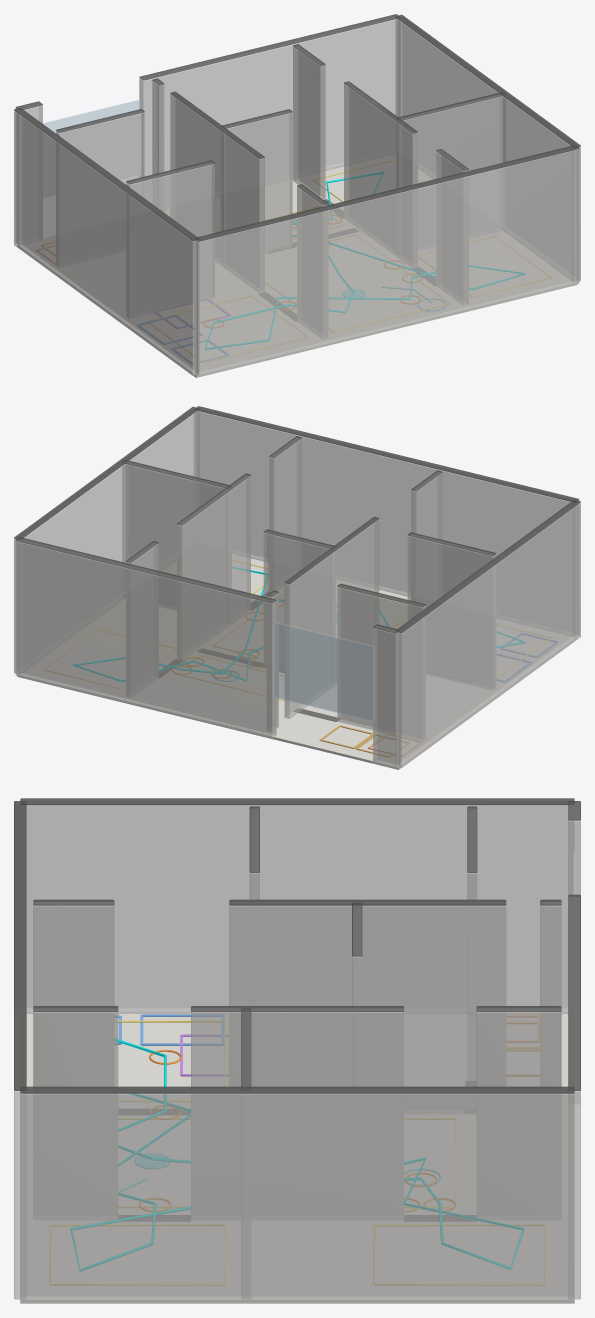
The model's file is simple_apartment_walls_optimized.glb.
3 views of the same model, one above another, from view 1: azimuth 30°, elevation 25°; view 2: azimuth 150°, elevation 25°; view 3: azimuth 270°, elevation 25° (orthographic). The views are drawn at different scales.
Parts seen in each view (by area): view 1: APT_Wall_Outer_South, APT_Floor_Main, APT_Wall_Outer_North_Segment_East, APT_Wall_Outer_West, APT_Wall_Outer_East, APT_Wall_LeftBlock_Partition_Mid, APT_Wall_Kitchen_North_Partition, APT_Wall_Balcony_South_Partition, APT_Wall_Bedroom_Divider, APT_Wall_RightBlock_Partition_Middle, APT_Wall_Corridor_Living_Partition_Short, APT_Window_Balcony_North_Glass (+13 smaller); view 2: APT_Wall_Outer_South, APT_Wall_Outer_North_Segment_East, APT_Floor_Main, APT_Wall_Outer_West, APT_Wall_Outer_East, APT_Wall_LeftBlock_Partition_Mid, APT_Wall_Bedroom_Divider, APT_Wall_Balcony_South_Partition, APT_Wall_Kitchen_North_Partition, APT_Wall_RightBlock_Partition_Middle, APT_Window_Balcony_North_Glass, APT_Wall_Corridor_Living_Partition_Short (+13 smaller); view 3: APT_Wall_Outer_East, APT_Wall_Outer_West, APT_Floor_Main, APT_Wall_LeftBlock_Partition_Mid, APT_Wall_RightBlock_Partition_Middle, APT_Wall_RightBlock_Partition_Lower, APT_Wall_RightBlock_Partition_Upper, APT_Wall_LeftBlock_Partition_Lower, APT_Wall_Outer_North_Segment_East, APT_Wall_Outer_East_DarkTopCap, APT_Wall_Outer_West_DarkTopCap, APT_Wall_Outer_South_DarkTopCap (+16 smaller).
Part boxes in pixels (bbox=[...]): APT_Wall_Outer_South: bbox=[194, 149, 579, 376]; APT_Floor_Main: bbox=[17, 154, 577, 377]; APT_Wall_Outer_North_Segment_East: bbox=[139, 16, 400, 209]; APT_Wall_Outer_West: bbox=[14, 111, 199, 375]; APT_Wall_Outer_East: bbox=[395, 19, 580, 282]; APT_Wall_LeftBlock_Partition_Mid: bbox=[170, 94, 264, 292]; APT_Wall_Kitchen_North_Partition: bbox=[126, 162, 214, 318]; APT_Wall_Balcony_South_Partition: bbox=[56, 111, 144, 266]; APT_Wall_Bedroom_Divider: bbox=[396, 94, 505, 250]; APT_Wall_RightBlock_Partition_Middle: bbox=[344, 83, 417, 267]; APT_Wall_Corridor_Living_Partition_Short: bbox=[221, 111, 292, 253]; APT_Window_Balcony_North_Glass: bbox=[43, 99, 141, 197]; APT_Wall_Outer_South: bbox=[194, 411, 578, 637]; APT_Wall_Outer_North_Segment_East: bbox=[15, 539, 276, 738]; APT_Floor_Main: bbox=[17, 554, 577, 769]; APT_Wall_Outer_West: bbox=[395, 503, 580, 767]; APT_Wall_Outer_East: bbox=[14, 411, 199, 674]; APT_Wall_LeftBlock_Partition_Mid: bbox=[284, 519, 379, 718]; APT_Wall_Bedroom_Divider: bbox=[122, 462, 231, 610]; APT_Wall_Balcony_South_Partition: bbox=[337, 585, 425, 741]; APT_Wall_Kitchen_North_Partition: bbox=[407, 534, 496, 690]; APT_Wall_RightBlock_Partition_Middle: bbox=[177, 475, 250, 659]; APT_Window_Balcony_North_Glass: bbox=[274, 622, 374, 721]; APT_Wall_Corridor_Living_Partition_Short: bbox=[263, 531, 335, 671]; APT_Wall_Outer_East: bbox=[20, 1093, 574, 1302]; APT_Wall_Outer_West: bbox=[26, 805, 574, 1013]; APT_Floor_Main: bbox=[20, 1012, 574, 1303]; APT_Wall_LeftBlock_Partition_Mid: bbox=[229, 905, 506, 1113]; APT_Wall_RightBlock_Partition_Middle: bbox=[191, 1008, 403, 1219]; APT_Wall_RightBlock_Partition_Lower: bbox=[33, 1008, 118, 1219]; APT_Wall_RightBlock_Partition_Upper: bbox=[476, 1008, 561, 1219]; APT_Wall_LeftBlock_Partition_Lower: bbox=[33, 902, 114, 1085]; APT_Wall_Outer_North_Segment_East: bbox=[568, 897, 580, 1299]; APT_Wall_Outer_East_DarkTopCap: bbox=[20, 1086, 574, 1093]; APT_Wall_Outer_West_DarkTopCap: bbox=[20, 798, 574, 805]; APT_Wall_Outer_South_DarkTopCap: bbox=[14, 801, 26, 1090].
Size of the model in its own units: 8.15 by 2.78 by 6.65.
